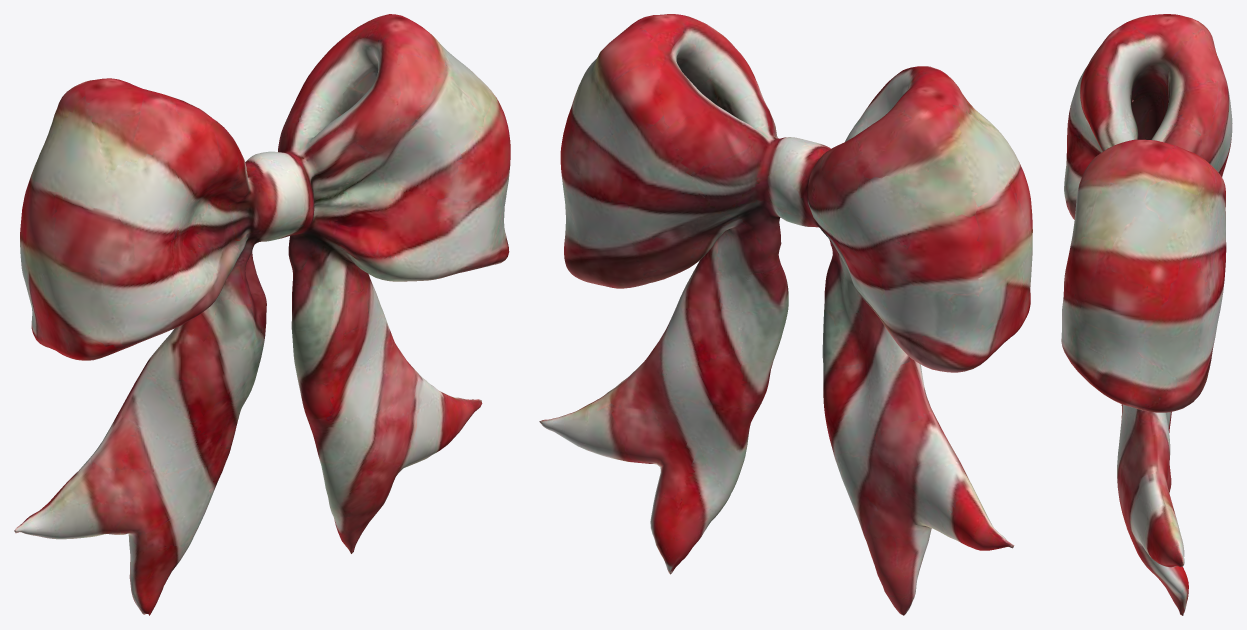
3 views of the same model, side by side, from view 1: azimuth 30°, elevation 25°; view 2: azimuth 150°, elevation 25°; view 3: azimuth 270°, elevation 25° (orthographic). The views are drawn at different scales.
Parts seen in each view (by area): view 1: Mesh_0; view 2: Mesh_0; view 3: Mesh_0.
Boxes of the visible parts, bbox=[...] form: Mesh_0: bbox=[14, 14, 510, 615]; Mesh_0: bbox=[539, 14, 1032, 615]; Mesh_0: bbox=[1061, 14, 1232, 615].
Size of the model in its own units: 1.75 by 1.91 by 0.6074.
Materials: 1 (1 with a texture image).
